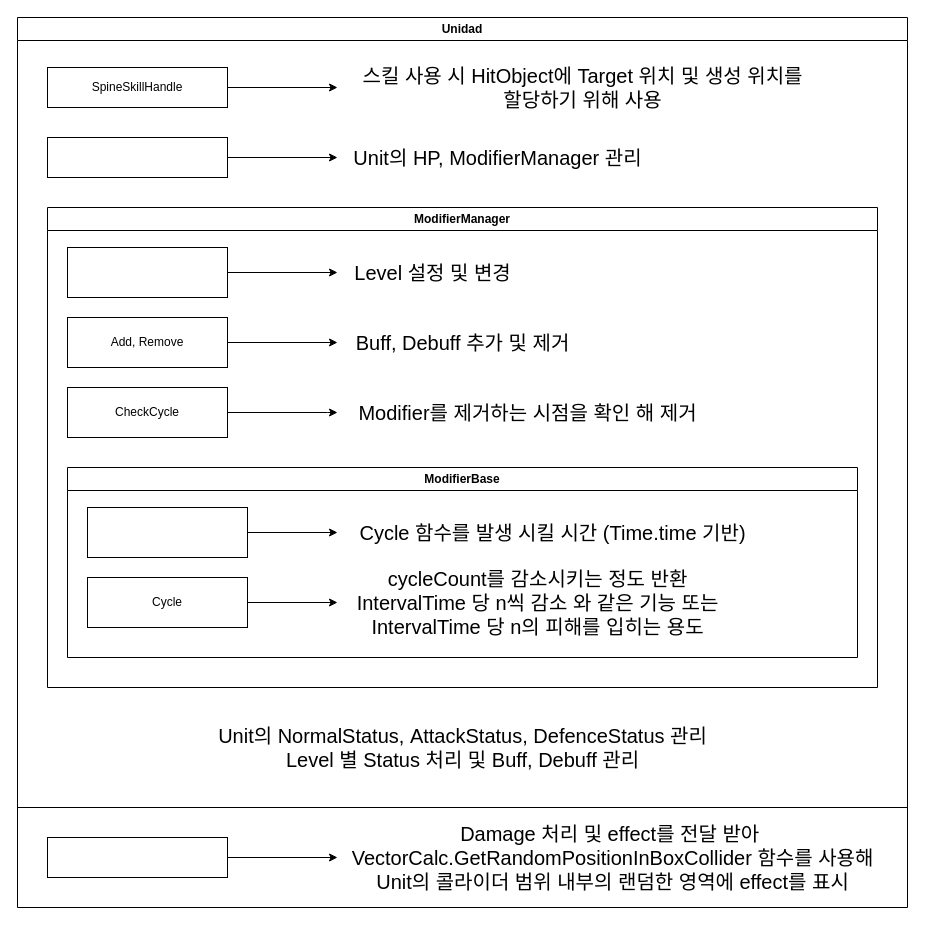
The diagram is 926 pixels wide and 925 high, and some of its shapes have lost their labels. The shapes that lost their labels are listed below. From the top down, each one's centre as x and y in pixels, then its label:
At (137,157): "StatusManager".
At (147,272): "SetUnitDefaltStatus".
At (167,532): "IntervalTime".
At (137,857): "OnDamage".
